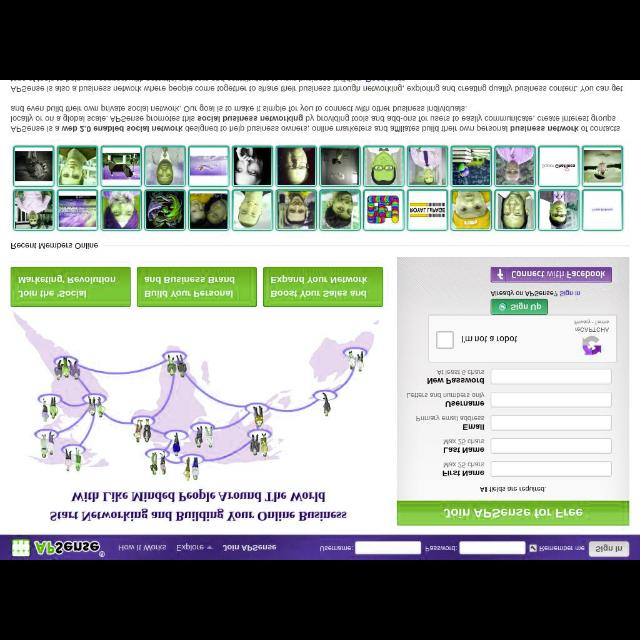checkbox: (437, 332, 453, 348), (530, 545, 536, 551)
icon: (492, 270, 504, 280), (499, 303, 507, 311), (207, 545, 213, 551)
image: (8, 310, 388, 488), (10, 146, 626, 234), (10, 538, 106, 558), (572, 318, 612, 357)
input: (491, 462, 614, 476), (491, 416, 614, 430), (491, 439, 613, 453), (491, 369, 613, 383), (491, 393, 611, 407), (354, 541, 422, 555), (458, 541, 526, 555)
link: (560, 292, 580, 296)
spinner: (172, 542, 215, 556)
text: (9, 105, 621, 134), (47, 491, 351, 525), (9, 80, 624, 94), (18, 274, 116, 298), (143, 275, 239, 299), (270, 276, 370, 298), (440, 506, 584, 520), (404, 392, 488, 410), (415, 413, 487, 432), (426, 368, 486, 386), (440, 436, 488, 456), (11, 240, 99, 250), (442, 460, 484, 478), (511, 271, 605, 279), (462, 334, 518, 346), (491, 290, 583, 296), (480, 486, 546, 494), (223, 544, 277, 552), (117, 544, 167, 552), (319, 544, 353, 552), (540, 546, 584, 552), (594, 546, 624, 554), (511, 302, 541, 310), (176, 544, 204, 552), (426, 546, 458, 552)
textbutton: (137, 268, 257, 308), (263, 267, 383, 307), (11, 267, 130, 307), (491, 268, 611, 282), (490, 300, 548, 314), (589, 542, 629, 556)
toolbar: (1, 535, 640, 559)
